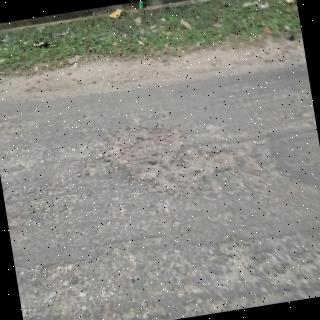pothole: (102, 122, 237, 199)
